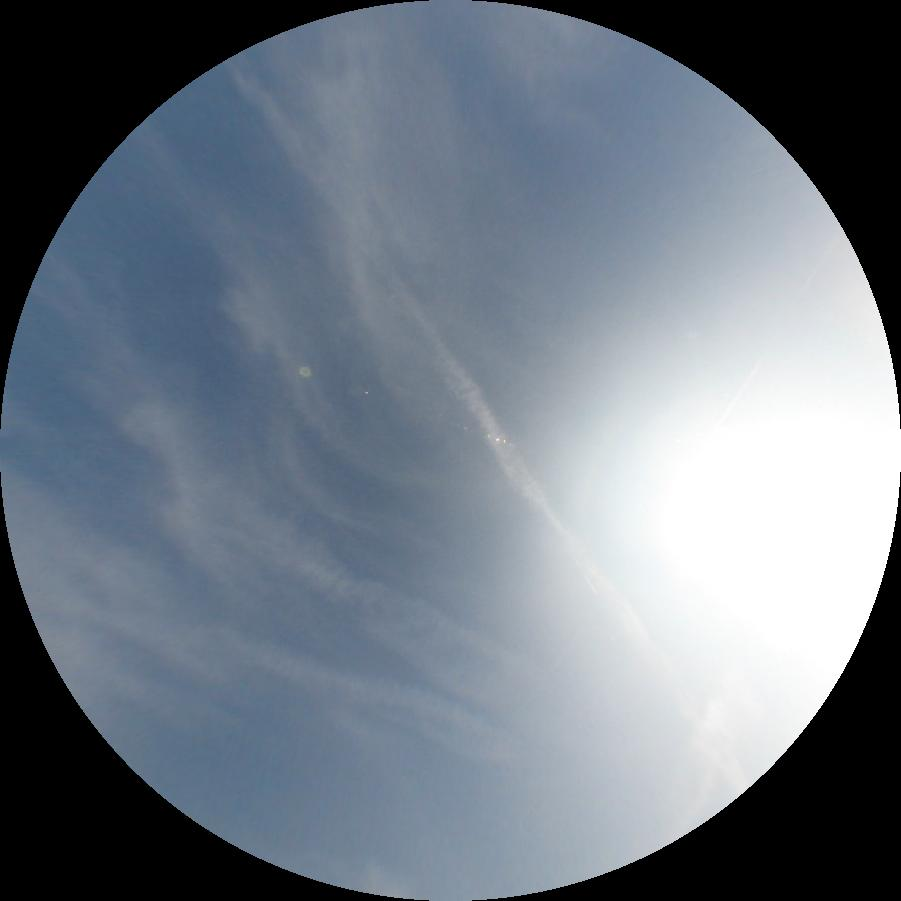contrail veryold: (228, 63, 754, 788), (220, 494, 561, 720), (221, 627, 524, 761)
contrail young: (734, 232, 845, 403), (574, 562, 600, 598)
sun: (662, 409, 900, 646)
